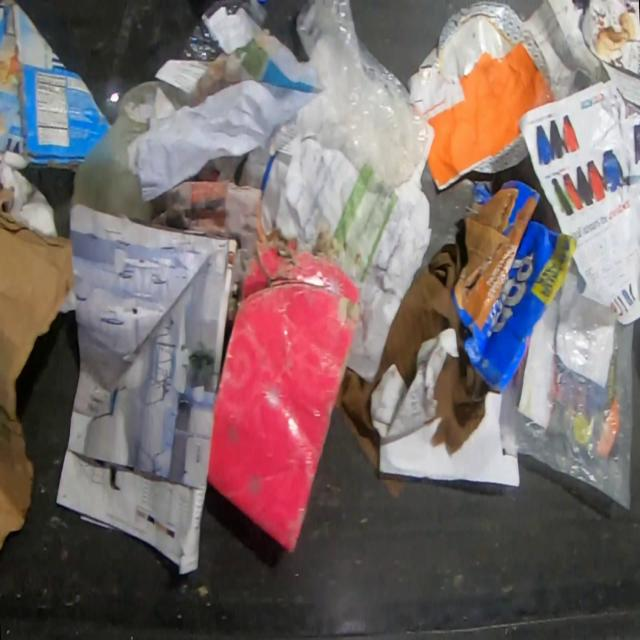cardboard: (207, 228, 362, 556), (0, 183, 76, 554), (450, 177, 578, 394), (0, 0, 112, 177), (417, 0, 547, 82), (579, 0, 640, 109), (472, 132, 530, 173)
soft_plastic: (498, 268, 636, 512), (69, 0, 195, 225), (294, 0, 430, 192), (178, 0, 270, 63), (532, 68, 582, 110)
